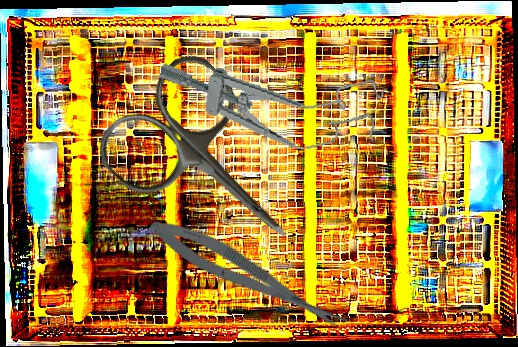Iris Scissors: (87, 43, 336, 291)
Micro Scissor: (143, 206, 354, 346)
Speculum: (151, 45, 388, 163)
